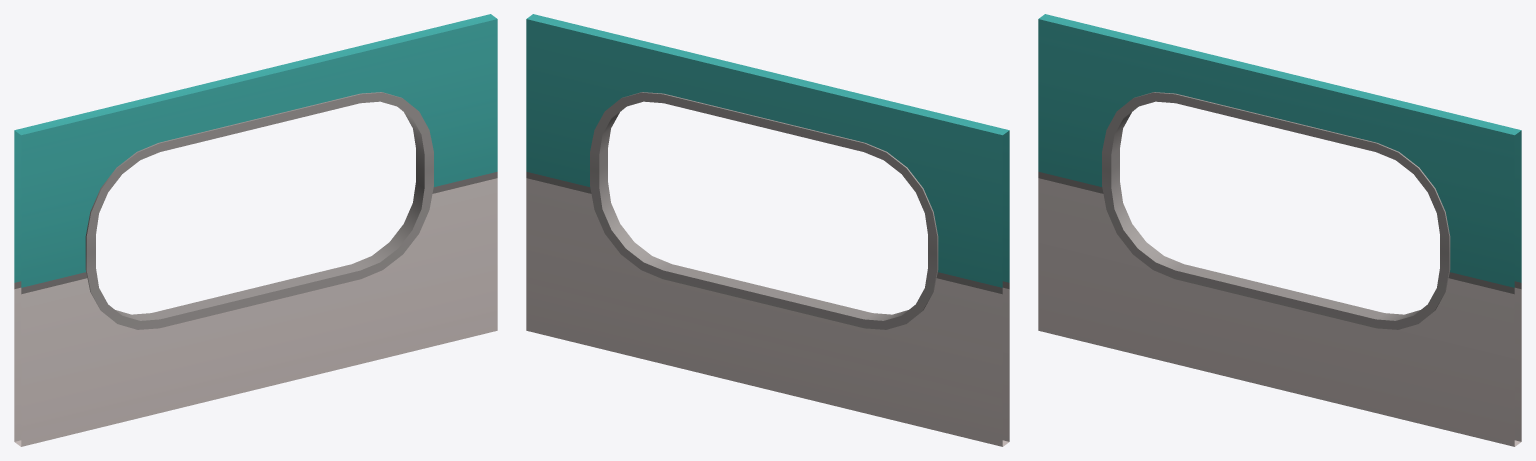
File: Wall_Window_4m.fbx
The picture shows the model from 3 angles, left to right: view 1: azimuth 30°, elevation 25°; view 2: azimuth 150°, elevation 25°; view 3: azimuth 330°, elevation 25°; orthographic projection.
Visible parts, largest first — view 1: Wall4m_window, windowFrame; view 2: Wall4m_window, windowFrame; view 3: Wall4m_window, windowFrame.
Part boxes in pixels (bbox=[...]): Wall4m_window: bbox=[14, 14, 497, 446]; windowFrame: bbox=[85, 92, 433, 329]; Wall4m_window: bbox=[526, 14, 1009, 446]; windowFrame: bbox=[590, 92, 938, 329]; Wall4m_window: bbox=[1038, 14, 1521, 446]; windowFrame: bbox=[1102, 92, 1450, 329].
Size of the model in its own units: 4 by 2.5 by 0.1259.
